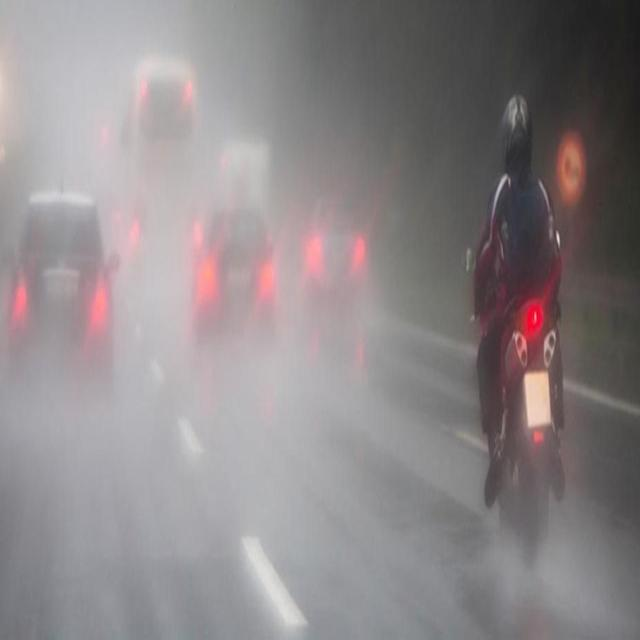Bus: (107, 41, 202, 293)
Car: (4, 181, 124, 410), (179, 202, 281, 372), (302, 164, 376, 321)
Cycle: (460, 75, 593, 593)
